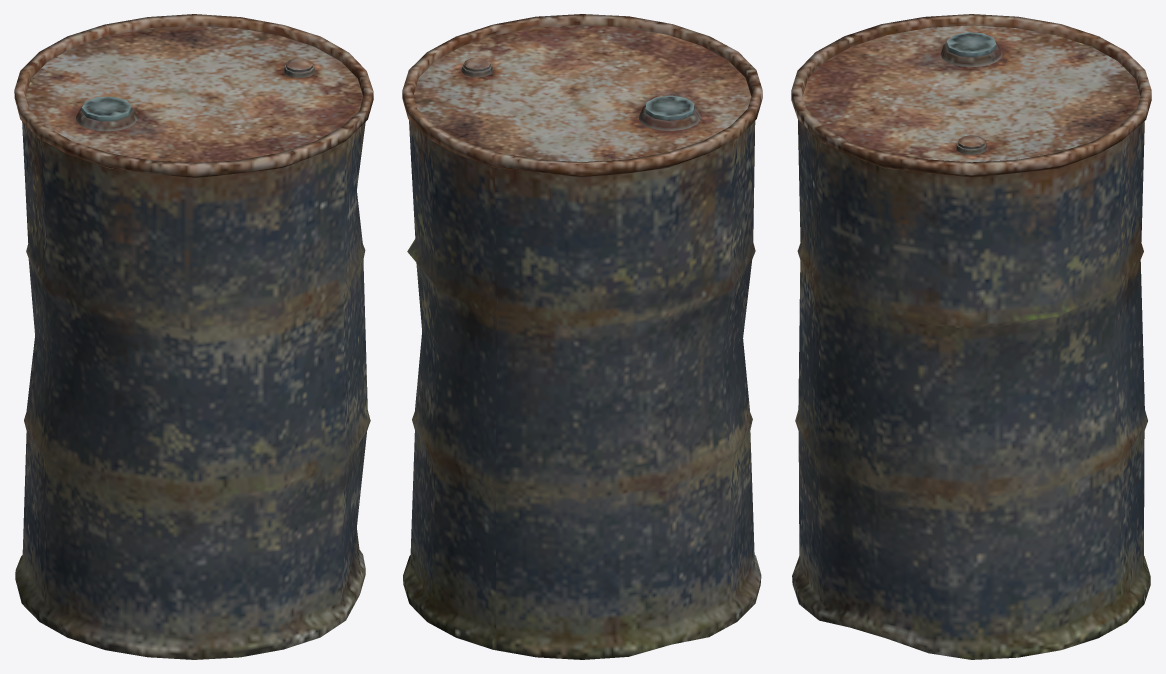
File: sm26_013_oilcan01a.fbx
The picture shows the model from 3 angles, left to right: view 1: azimuth 30°, elevation 25°; view 2: azimuth 150°, elevation 25°; view 3: azimuth 270°, elevation 25°; orthographic projection.
Parts seen in each view (by area): view 1: LOD_1_Group_0_Sub_1__sm26_013_oilCan01A_A_Mat; view 2: LOD_1_Group_0_Sub_1__sm26_013_oilCan01A_A_Mat; view 3: LOD_1_Group_0_Sub_1__sm26_013_oilCan01A_A_Mat.
Boxes of the visible parts, left/top/right/bottom form: LOD_1_Group_0_Sub_1__sm26_013_oilCan01A_A_Mat: left=14, top=14, right=373, bottom=659; LOD_1_Group_0_Sub_1__sm26_013_oilCan01A_A_Mat: left=402, top=14, right=762, bottom=659; LOD_1_Group_0_Sub_1__sm26_013_oilCan01A_A_Mat: left=791, top=14, right=1151, bottom=659.
Bounding box in the file's own units: 0.7863 × 1.21 × 0.7883.
